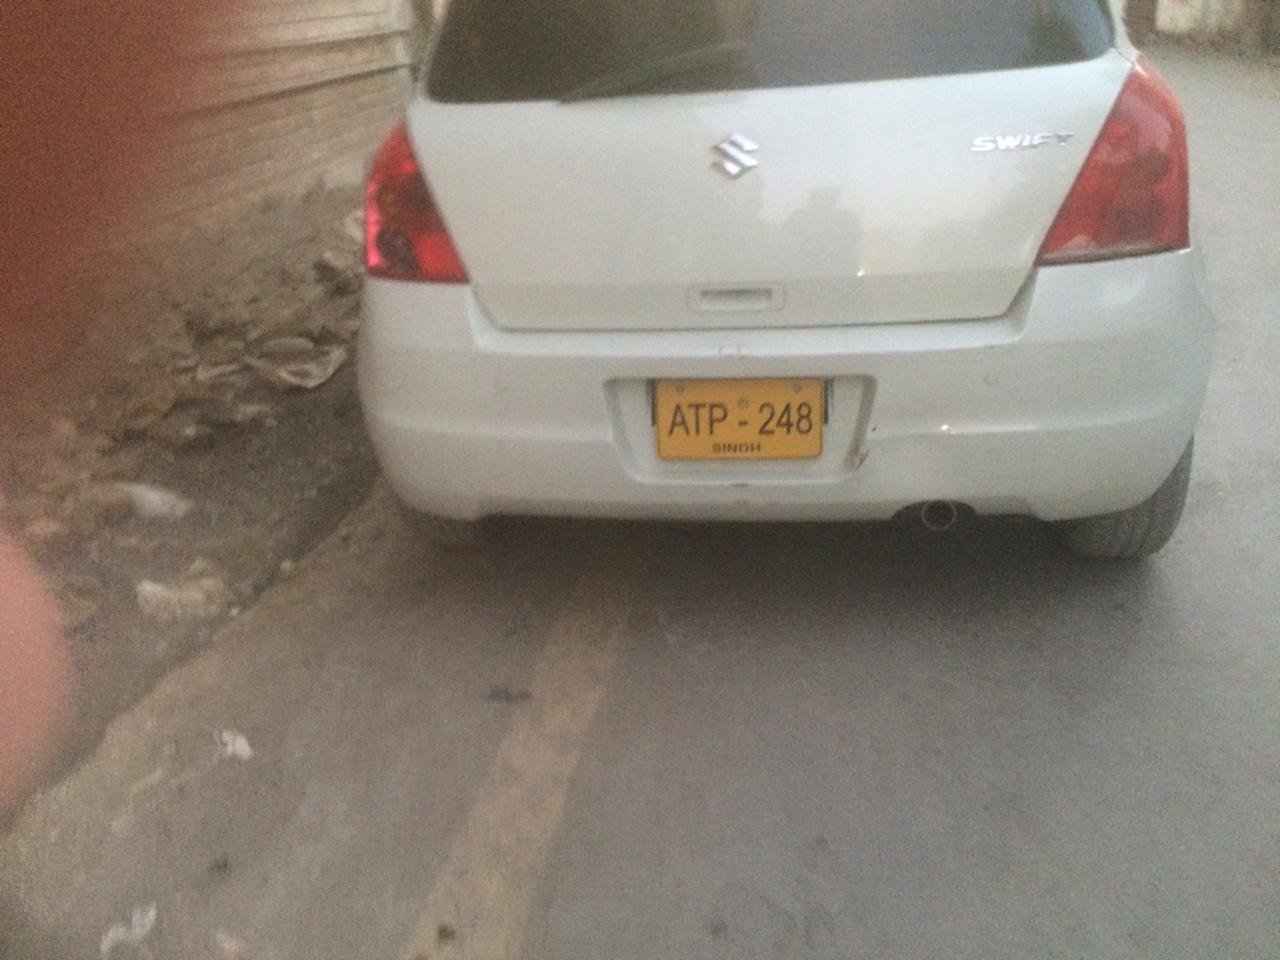license plate: (653, 378, 822, 461)
